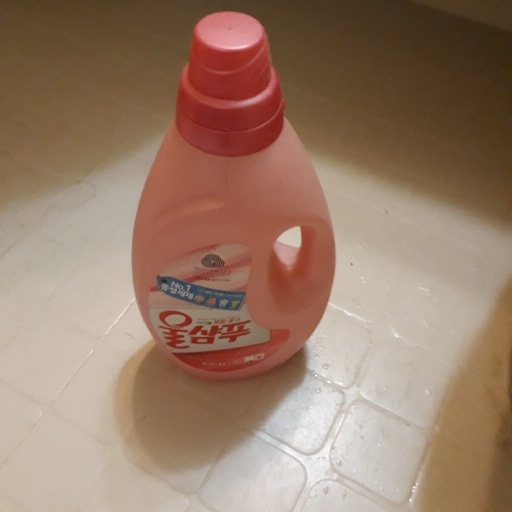Plastic_1: (128, 10, 335, 375)
